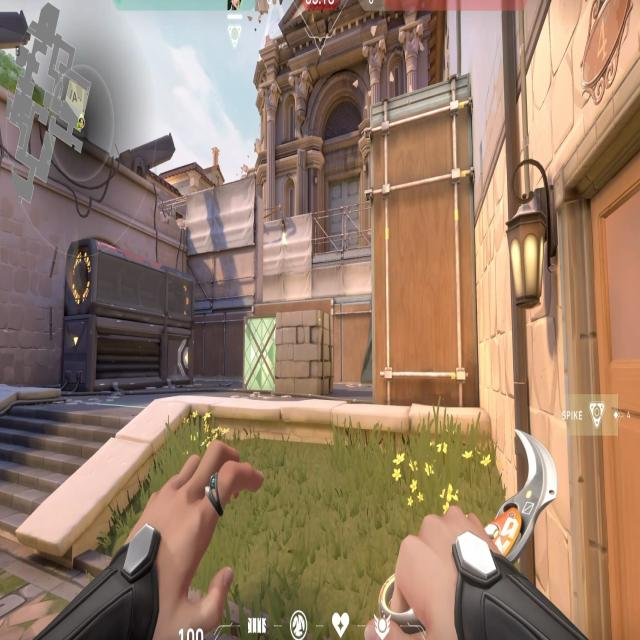A_Heaven_Wall: (186, 187, 264, 306)
A_Site_Box: (241, 312, 335, 393)
